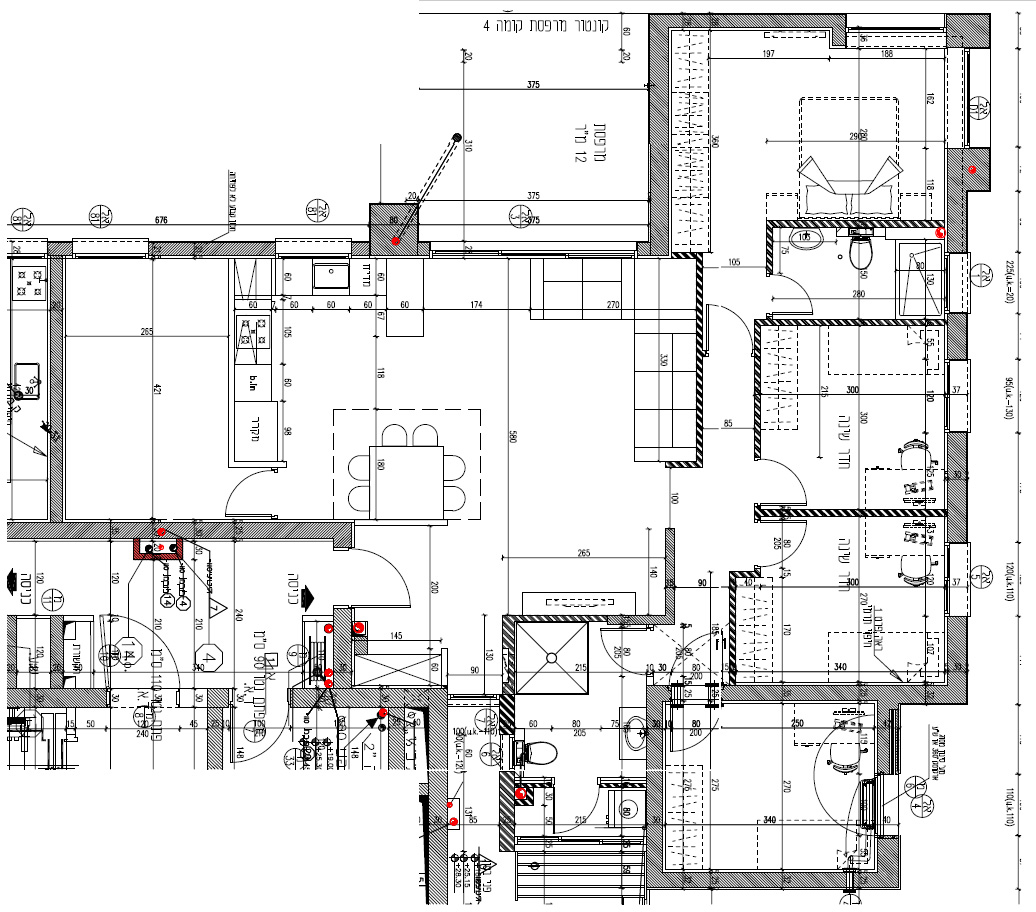door: (357, 540, 418, 616), (761, 516, 816, 571), (766, 453, 821, 508), (699, 302, 754, 357), (765, 264, 820, 319), (221, 468, 270, 519)
wall: (648, 15, 668, 257), (428, 688, 448, 903), (648, 873, 849, 890), (723, 685, 966, 699), (8, 522, 157, 538), (169, 523, 318, 539)
window: (427, 242, 637, 260), (846, 15, 945, 49), (944, 543, 971, 618), (943, 359, 970, 434), (943, 251, 971, 315), (72, 238, 149, 260), (275, 238, 352, 260), (447, 693, 497, 711)
